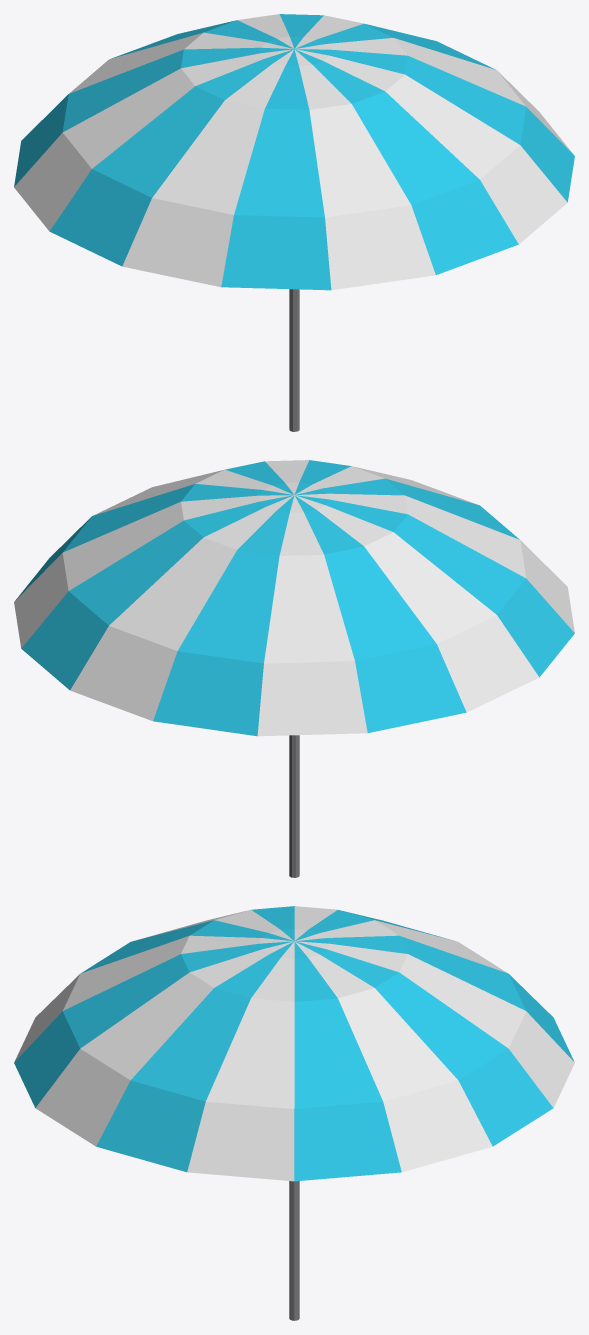
The model's file is umbrella.fbx.
3 renders of one model, top to bottom at view 1: azimuth 30°, elevation 25°; view 2: azimuth 150°, elevation 25°; view 3: azimuth 270°, elevation 25°, orthographic.
Visible parts, largest first — view 1: umbrella; view 2: umbrella; view 3: umbrella.
Part boxes in pixels (x1,y1,x2,y2): umbrella: [14, 14, 574, 431]; umbrella: [14, 460, 574, 877]; umbrella: [14, 906, 574, 1320].
Bounding box in the file's own units: 523 × 388 × 523.
